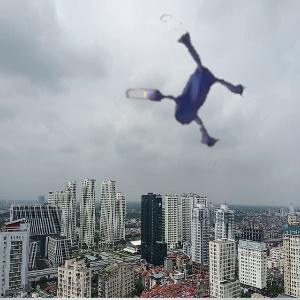drone: (100, 9, 263, 172)
